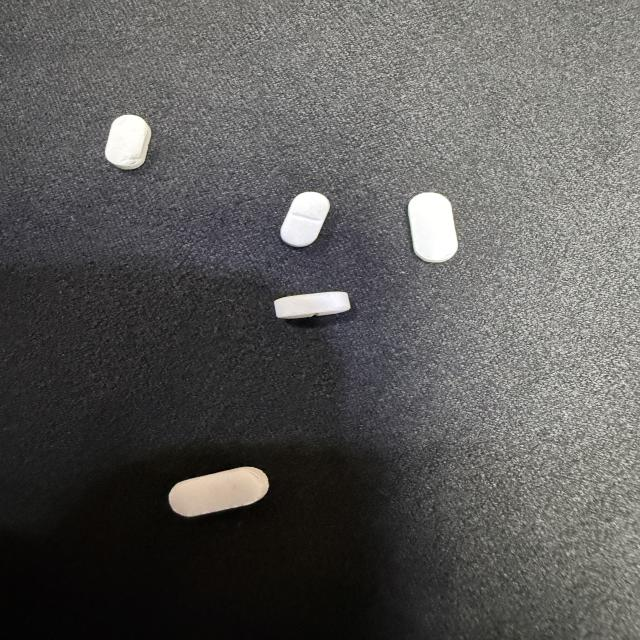pill: (169, 467, 268, 516), (409, 193, 458, 262), (281, 192, 330, 247), (105, 115, 151, 169), (274, 292, 350, 319)
